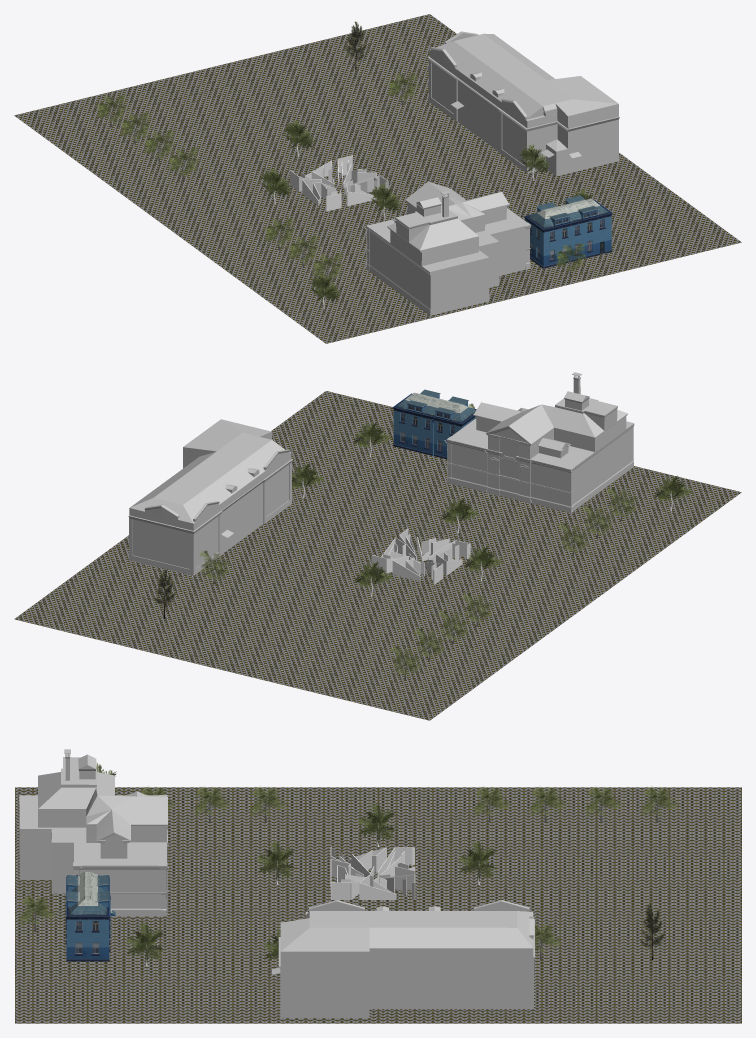
The model's file is SarahBradila.gltf.
The picture shows the model from 3 angles, top to bottom: view 1: azimuth 30°, elevation 25°; view 2: azimuth 150°, elevation 25°; view 3: azimuth 270°, elevation 25°; orthographic projection. The views are drawn at different scales.
Parts seen in each view (by area): view 1: Plane, House_3, House_2, Building_Apartment_10, 3dmodel, baum ld0 (4), baum ld0 (3), baum ld0 (7), baum ld0 (6), baum ld0 (8), baum ld1 (4), baum ld1 (6) (+6 smaller); view 2: Plane, House_2, House_3, Building_Apartment_10, 3dmodel, baum ld0, baum ld0 (7), baum ld0 (8), baum ld0 (4), baum ld0 (6); view 3: Plane, House_3, House_2, Building_Apartment_10, 3dmodel, baum ld0, baum ld0 (7), baum ld0 (8), baum ld0 (4), baum ld1 (7), baum ld1 (11), baum ld1 (+6 smaller).
Boxes of the visible parts, bbox=[...] form: Plane: bbox=[14, 14, 741, 343]; House_3: bbox=[427, 31, 619, 176]; House_2: bbox=[364, 181, 531, 315]; Building_Apartment_10: bbox=[524, 195, 612, 268]; 3dmodel: bbox=[290, 155, 388, 211]; baum ld0 (4): bbox=[260, 168, 291, 204]; baum ld0 (3): bbox=[519, 144, 549, 180]; baum ld0 (7): bbox=[370, 183, 400, 219]; baum ld0 (6): bbox=[310, 272, 340, 309]; baum ld0 (8): bbox=[283, 119, 314, 156]; baum ld1 (4): bbox=[388, 73, 417, 104]; baum ld1 (6): bbox=[144, 130, 175, 162]; Plane: bbox=[14, 391, 741, 720]; House_2: bbox=[444, 372, 634, 513]; House_3: bbox=[128, 419, 293, 575]; Building_Apartment_10: bbox=[392, 389, 476, 459]; 3dmodel: bbox=[371, 529, 470, 584]; baum ld0: bbox=[353, 421, 391, 456]; baum ld0 (7): bbox=[440, 498, 479, 533]; baum ld0 (8): bbox=[355, 561, 392, 596]; baum ld0 (4): bbox=[464, 546, 502, 581]; baum ld0 (6): bbox=[654, 475, 692, 510]; Plane: bbox=[15, 787, 741, 1023]; House_3: bbox=[272, 900, 534, 1018]; House_2: bbox=[19, 749, 169, 916]; Building_Apartment_10: bbox=[65, 872, 115, 961]; 3dmodel: bbox=[330, 847, 415, 899]; baum ld0: bbox=[126, 922, 165, 966]; baum ld0 (7): bbox=[257, 840, 295, 884]; baum ld0 (8): bbox=[458, 840, 496, 884]; baum ld0 (4): bbox=[357, 802, 396, 846]; baum ld1 (7): bbox=[472, 786, 509, 822]; baum ld1 (11): bbox=[249, 787, 286, 822]; baum ld1: bbox=[18, 895, 55, 931].
Size of what is drawn, in the model's own units: 0.5 by 0.1161 by 0.6508.
